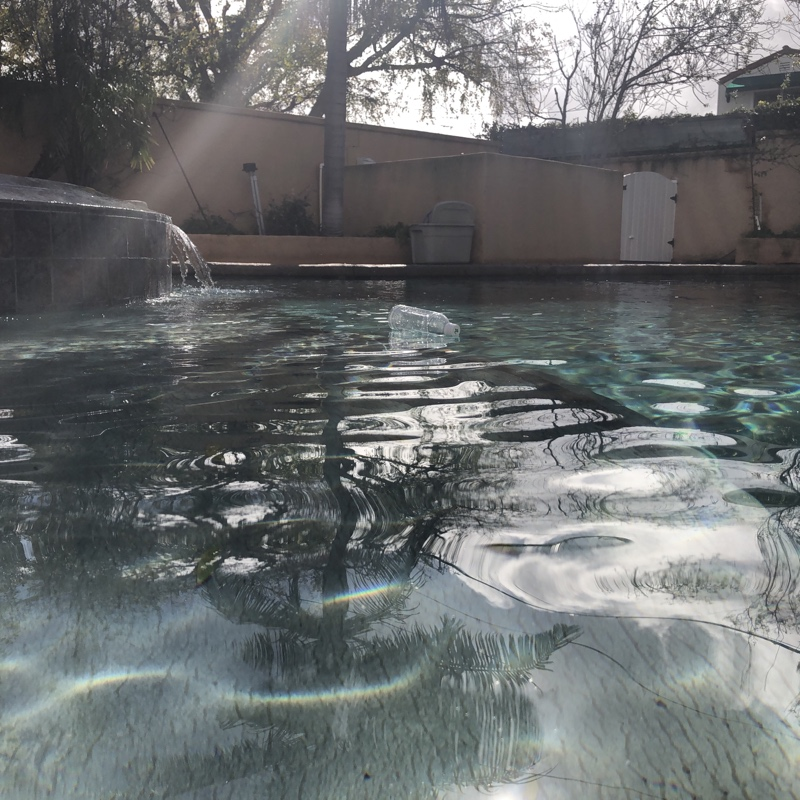Plastic Bottle: (384, 303, 464, 342)
